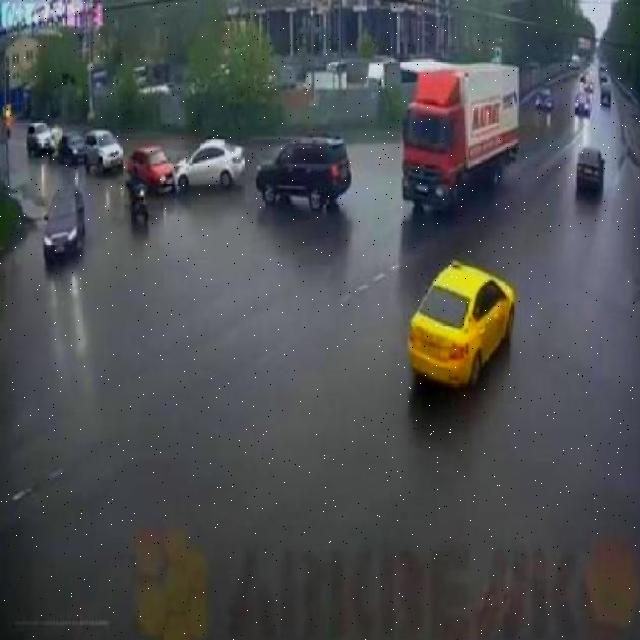accident: (130, 134, 241, 200)
